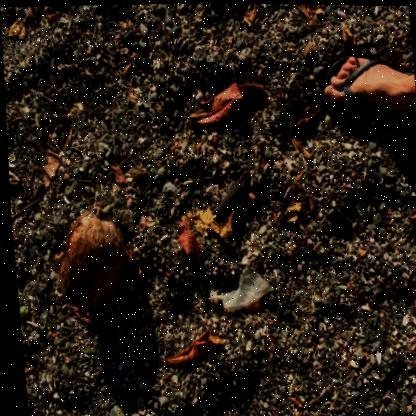Plastic: (206, 262, 271, 311)
